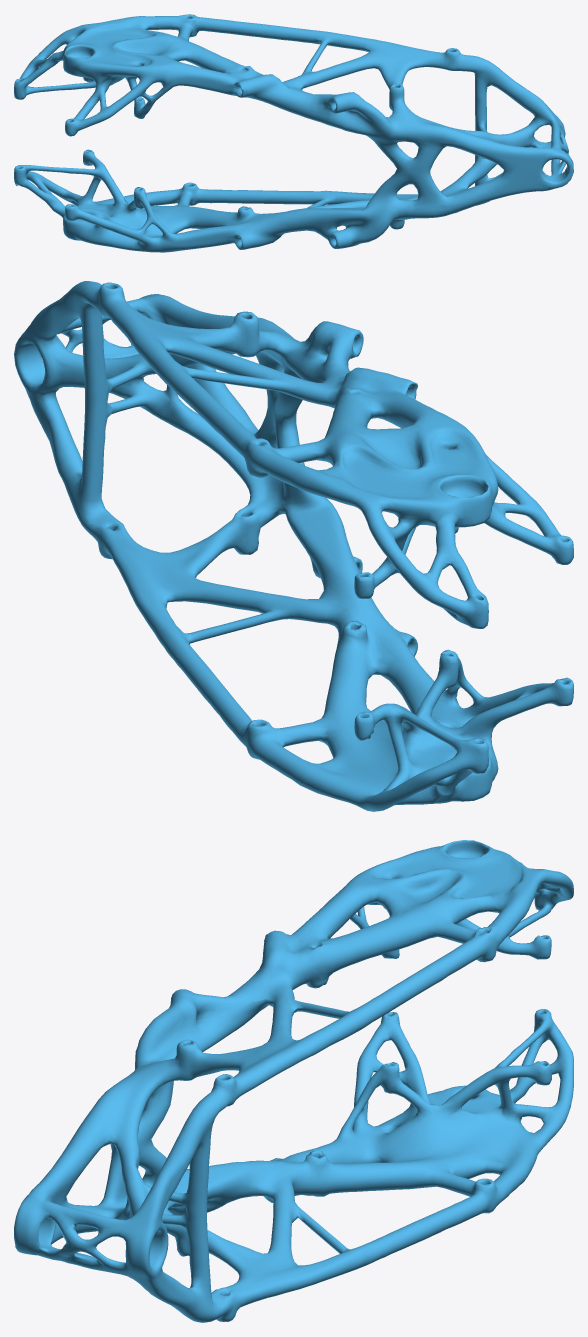
Rendered from optiframe.glb.
The picture shows the model from 3 angles, top to bottom: view 1: azimuth 30°, elevation 25°; view 2: azimuth 150°, elevation 25°; view 3: azimuth 270°, elevation 25°; orthographic projection. The views are drawn at different scales.
Parts seen in each view (by area): view 1: LOW POLY FRAME; view 2: LOW POLY FRAME; view 3: LOW POLY FRAME.
Boxes of the visible parts, x1=… form: LOW POLY FRAME: x1=14, y1=14, x2=573, y2=252; LOW POLY FRAME: x1=14, y1=281, x2=573, y2=811; LOW POLY FRAME: x1=14, y1=840, x2=573, y2=1322.
Bounding box in the file's own units: 0.8328 × 0.3638 × 0.6492.
